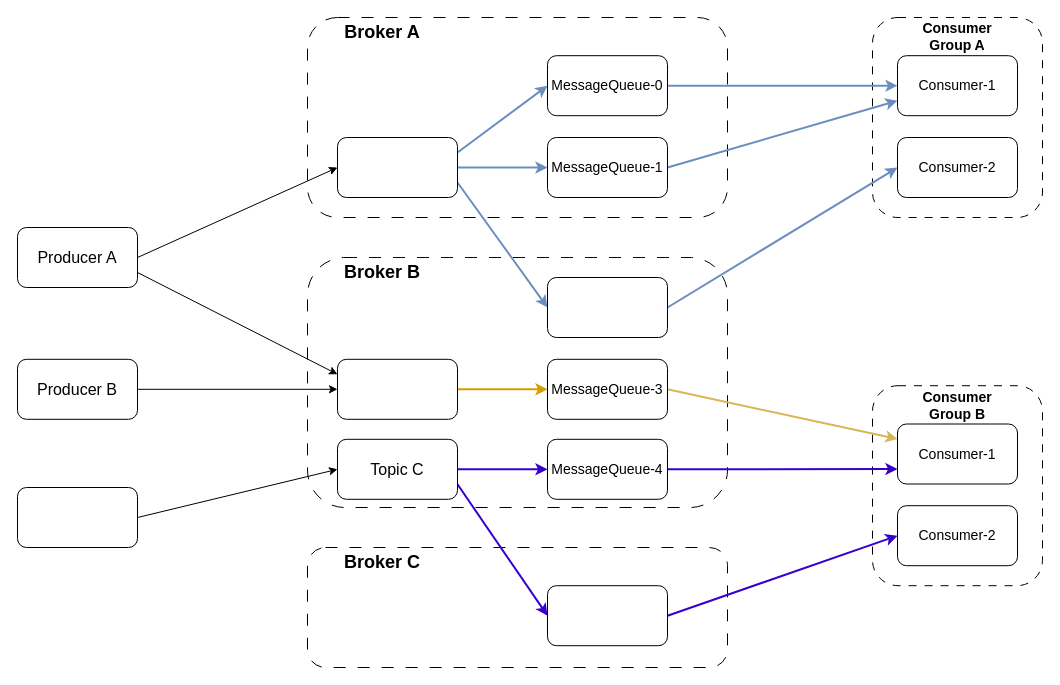
Some shapes in this 1060 by 685 pixel diagram are drawn without their labels. Each missing label, with the box of its shape:
MessageQueue-2: (546, 276, 668, 338)
MessageQueue-5: (546, 585, 668, 646)
Producer C: (16, 486, 138, 548)
Topic A: (336, 136, 458, 198)
Topic B: (336, 358, 458, 419)
